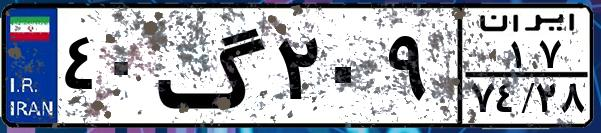0: (330, 28, 385, 110), (110, 28, 156, 98)
1: (508, 27, 537, 80)
2: (270, 28, 330, 110), (535, 70, 560, 125)
4: (57, 26, 110, 100), (495, 70, 520, 125)
7: (537, 27, 568, 80), (470, 70, 495, 125)
8: (560, 70, 590, 125)
9: (385, 28, 445, 110)
گ: (156, 12, 270, 120)
